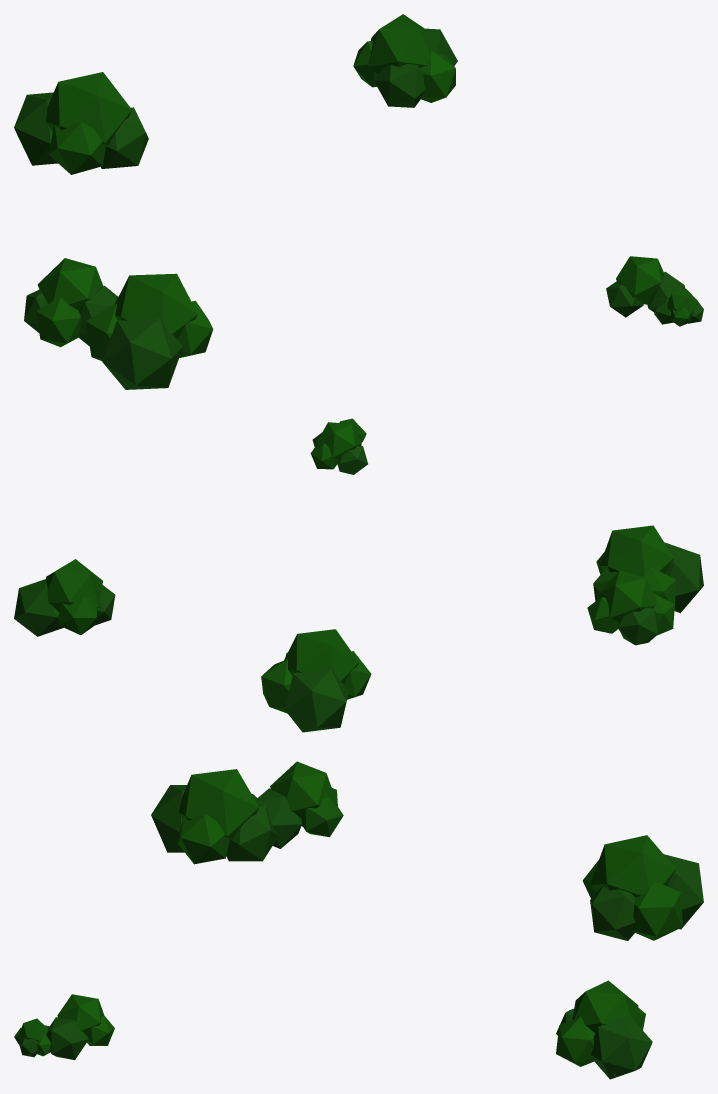
Rendered from buissons.FBX.
3 renders of one model, top to bottom at view 1: azimuth 30°, elevation 25°; view 2: azimuth 150°, elevation 25°; view 3: azimuth 270°, elevation 25°, orthographic. The views are drawn at different scales.
Parts seen in each view (by area): view 1: Icosphere; view 2: Icosphere; view 3: Icosphere.
Boxes of the visible parts, <box> form: Icosphere: <box>14,14,703,389</box>; Icosphere: <box>14,418,703,732</box>; Icosphere: <box>14,761,703,1079</box>.
Bounding box in the file's own units: 744 × 800 × 117.
